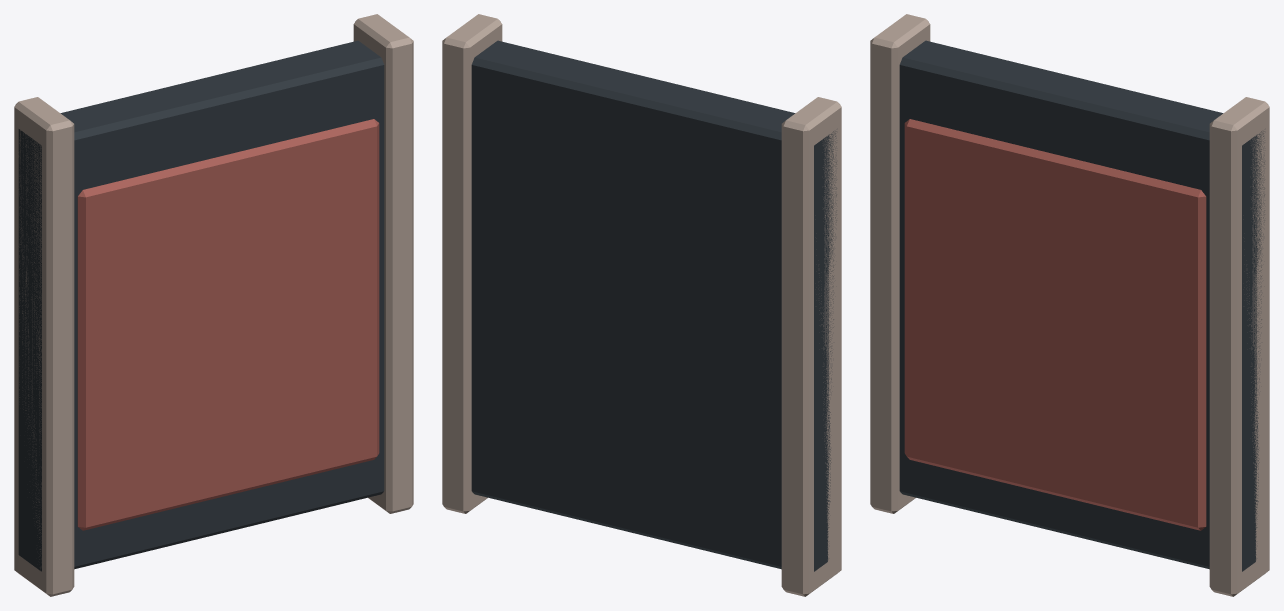
Rendered from town_textile_drape.lod1.glb.
3 views of the same model, side by side, from view 1: azimuth 30°, elevation 25°; view 2: azimuth 150°, elevation 25°; view 3: azimuth 330°, elevation 25° (orthographic).
Bounding box in the file's own units: 1.32 × 1.62 × 0.23.
